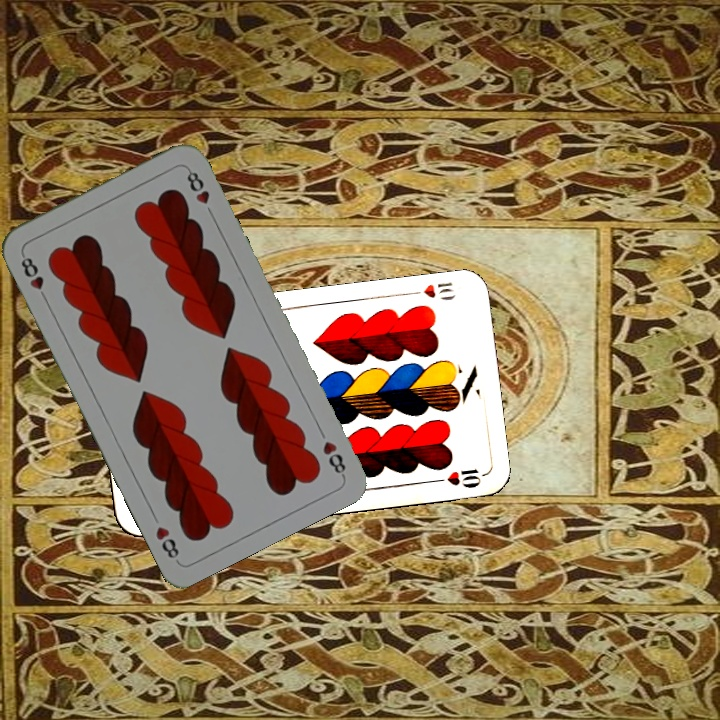H10: (403, 278, 458, 303)
H8: (16, 250, 51, 304), (318, 436, 349, 479)
